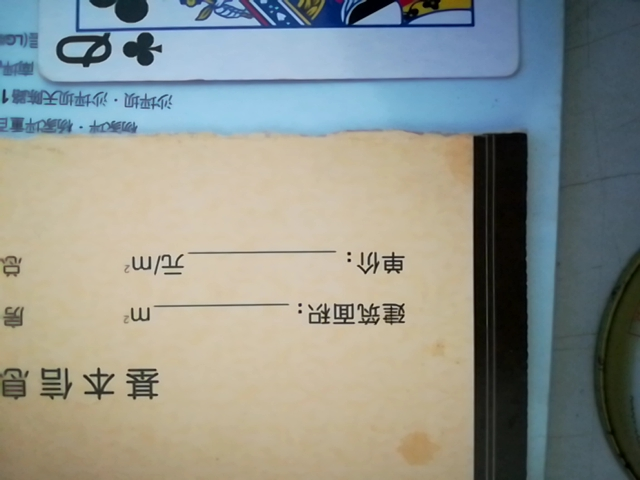mh q: (6, 1, 569, 113)
